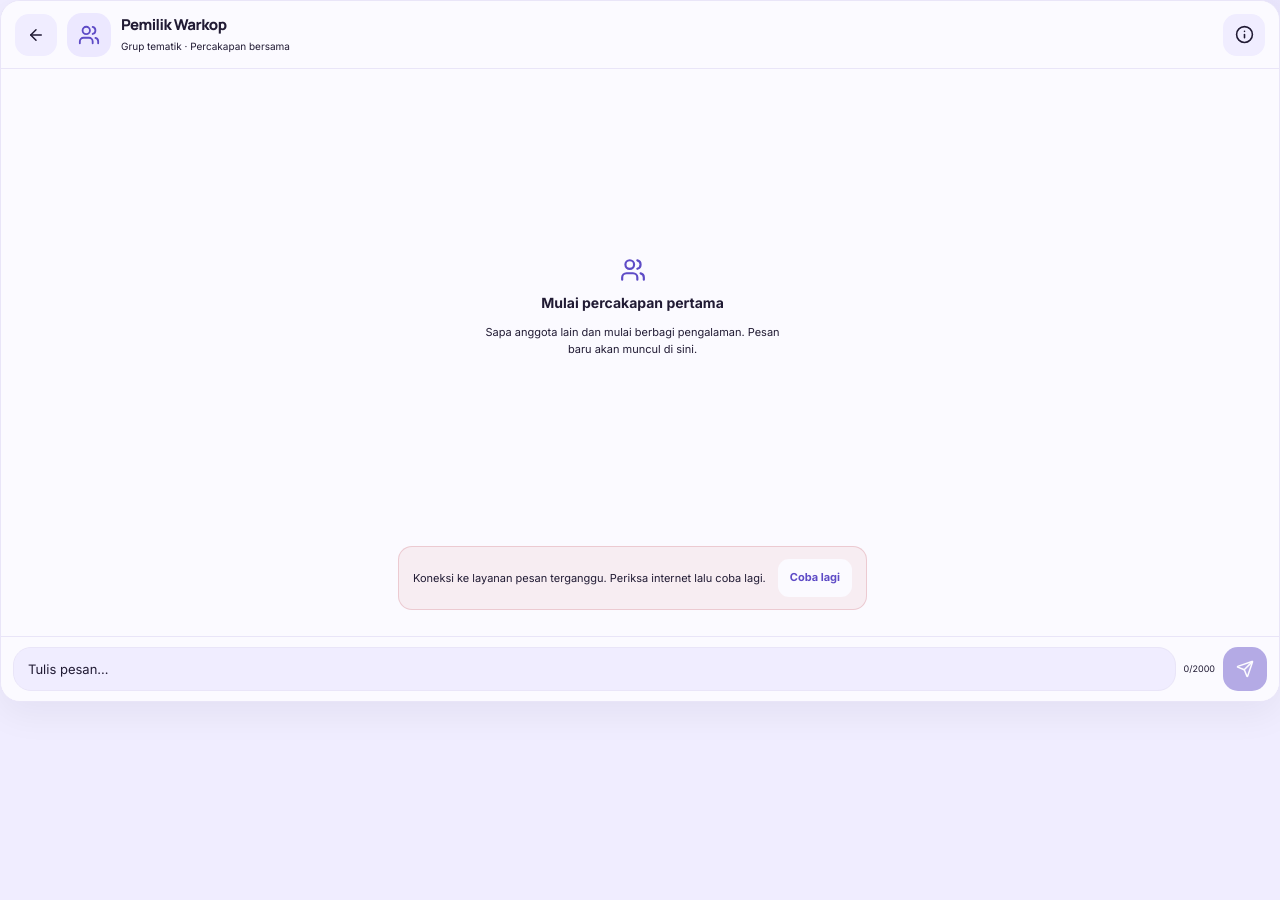
thematic group conversation › offers a retry when the message listener fails and recovers when retried
The image size is (1280, 900).
Expected: the text "Koneksi ke layanan pesan terganggu" is shown, [413,570,766,584]
Click the button "Coba lagi" at (815, 578), box [778,559,852,597]
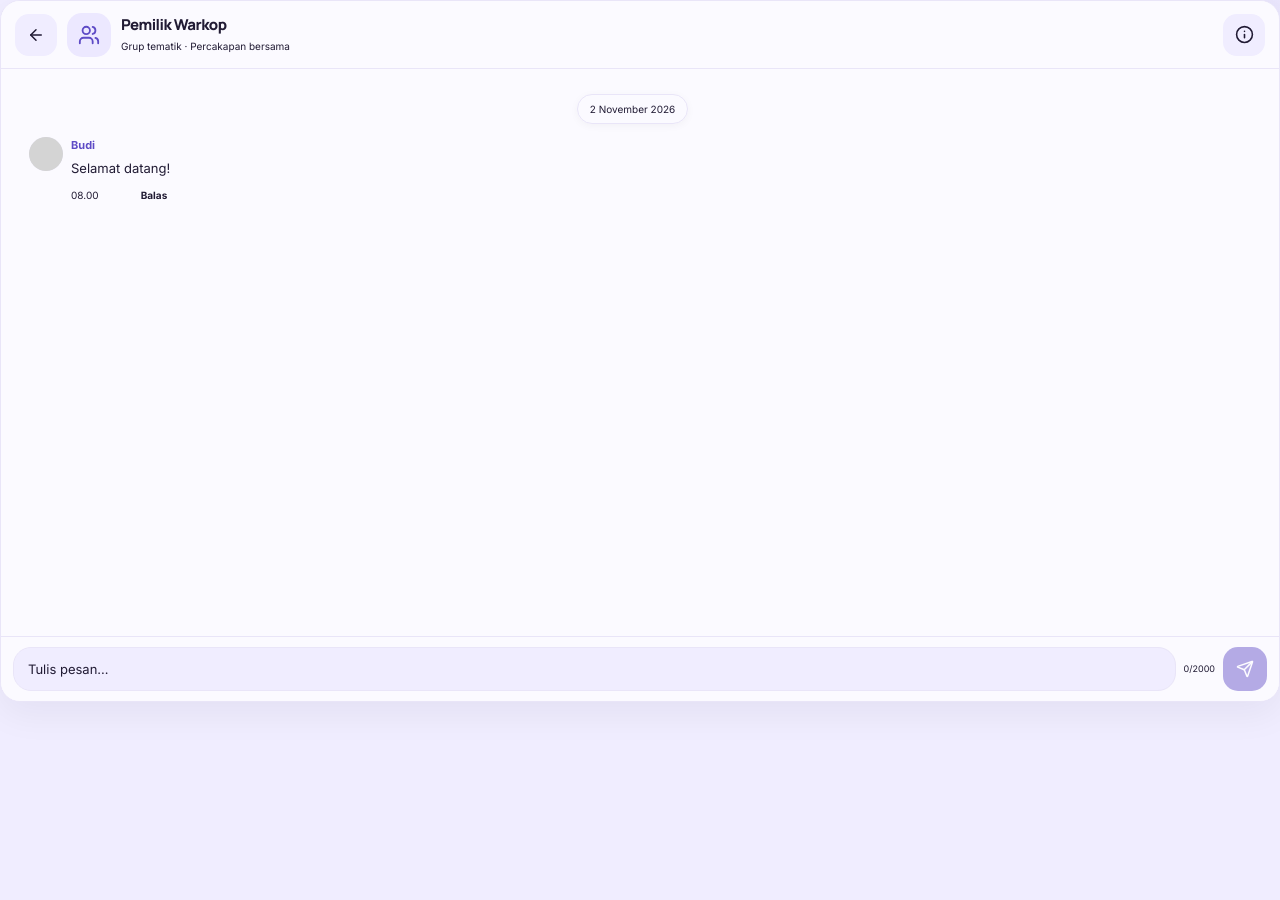
Result: the text "Selamat datang!" is shown at [71,158,170,179]
Result: the message "Koneksi ke layanan pesan terganggu. Periksa internet lalu coba lagi. Coba lagi" is gone
